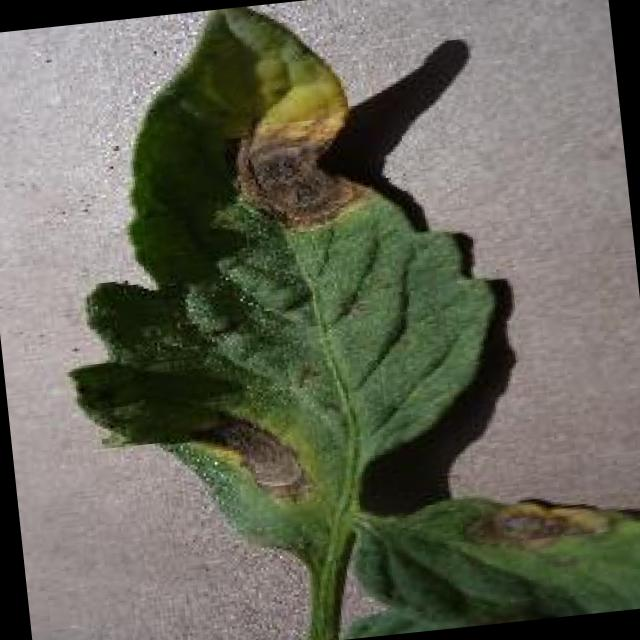Tomato_Early_Blight: (138, 60, 406, 524), (455, 451, 618, 582)
